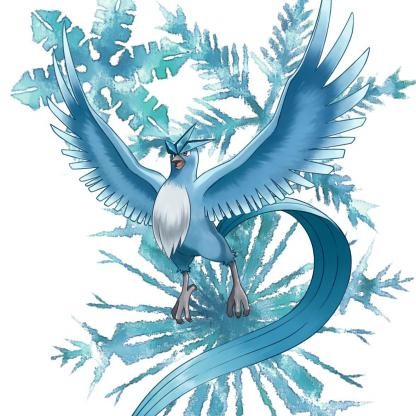Articuno: (1, 5, 416, 416)
